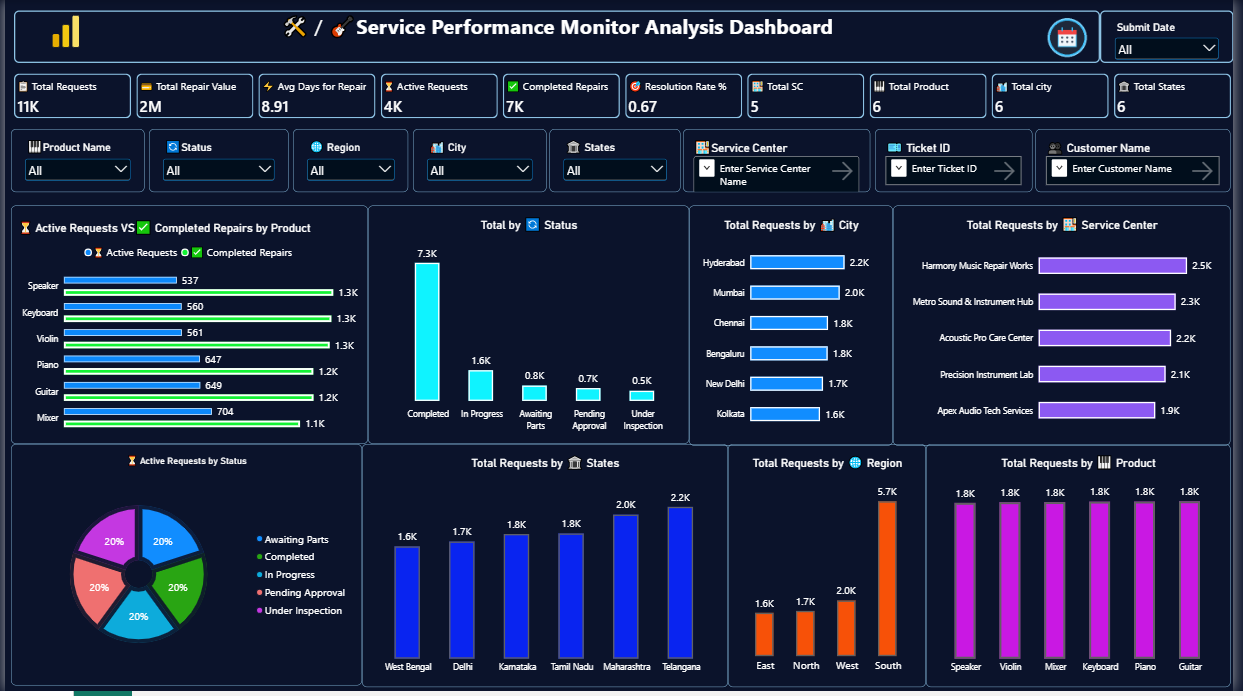

This screenshot's page, from the dashboard's own definition file:
{"tool":"powerbi","page":{"name":"Page 1","canvas":[1920,1080],"ordinal":0},"visuals":[{"type":"textbox","box":[14.1,16.4,1697.4,82.1],"z":0},{"type":"cardVisual","fields":{"Data":["Service Records.Total Requests","Service Records.Total Repair Value","Service Records.Avg Turnaround Days","Service Records.Active Requests","Service Records.Completed Repairs","Service Records.Resolution Rate %","Service Records.Total SC","Service Records.Total Podcut","Service Records.Total city","Service Records.Total States"]},"box":[14.1,114.9,1906.1,70.3],"z":1000},{"type":"slicer","fields":{"Values":["Service Records.Product Name"]},"box":[9.4,201.6,208.4,98.5],"z":2000,"group":"g1"},{"type":"clusteredBarChart","title":"⏳ Active Requests VS✅ Completed Repairs by Product ","fields":{"Category":["Service Records.Product Name"],"Y":["Service Records.⏳ Active Requests","Service Records.✅ Completed Repairs"]},"box":[9.4,321.2,558,372.8],"z":2000},{"type":"slicer","fields":{"Values":["Service Records.Status"]},"box":[224.8,201.6,217.8,98.5],"z":3000,"group":"g1"},{"type":"donutChart","fields":{"Category":["Service Records.Status"],"Y":["Service Records.Active Requests"]},"box":[9.4,694,548.6,377.5],"z":3000},{"type":"textSlicer","title":"🏬Service Center","fields":{"Values":["Service Records.Service Center Name"]},"box":[1060.8,201.6,292.7,98.5],"z":4000,"group":"g1"},{"type":"barChart","title":"Total Requests by 🏬 Service Center ","fields":{"Category":["Service Records.Service Center Name"],"Y":["Service Records.Total Requests"]},"box":[1387.9,321.2,527.5,375.1],"z":4000},{"type":"slicer","fields":{"Values":["Service Records.Region"]},"box":[449.6,201.6,180.3,98.5],"z":5000,"group":"g1"},{"type":"columnChart","title":"Total by 🔄 Status","fields":{"Category":["Service Records.Status"],"Y":["CountNonNull(Service Records.Status)"]},"box":[567.4,321.2,501.7,372.8],"z":5000},{"type":"slicer","fields":{"Values":["Service Records.States"]},"box":[851.8,201.6,204.7,98.5],"z":6000,"group":"g1"},{"type":"columnChart","title":"Total Requests by 🌐 Region","fields":{"Category":["Service Records.Region"],"Y":["Service Records.Total Requests"]},"box":[1130,694,309.5,379.8],"z":6000},{"type":"slicer","fields":{"Values":["Service Records.City"]},"box":[636.9,201.6,208.4,98.5],"z":7000,"group":"g1"},{"type":"columnChart","title":"Total Requests by 🎹 Product","fields":{"Category":["Service Records.Product Name"],"Y":["Service Records.📋 Total Requests"]},"box":[1439.5,694,475.9,379.8],"z":7000},{"type":"textSlicer","title":"👥 Customer Name","fields":{"Values":["Service Records.Customer Name"]},"box":[1611.1,201.6,304.4,98.5],"z":8000,"group":"g1"},{"type":"columnChart","title":"Total Requests by 🏛️ States","fields":{"Y":["Service Records.Total Requests"],"Category":["Service Records.States"]},"box":[558,694,572.1,379.8],"z":8000},{"type":"barChart","title":"Total Requests by 🏙️ City","fields":{"Category":["Service Records.City"],"Y":["Service Records.Total Requests"]},"box":[1069.1,321.2,318.8,375.1],"z":9000},{"type":"slicer","fields":{"Values":["Service Records.Submit Date"]},"box":[1711.5,16.4,208.7,82.1],"z":10000},{"type":"image","box":[1598.9,25.8,121.9,65.6],"z":11000},{"type":"image","box":[14.1,16.4,161.8,65.6],"z":12000},{"type":"group","id":"g1","title":"Group 1","box":[9.4,201.6,1906.1,98.5],"z":13000},{"type":"textSlicer","title":"🎫 Ticket ID","fields":{"Values":["Service Records.Ticket ID"]},"box":[1360.5,201.6,245.9,98.5],"z":17000,"group":"g1"}]}

Visuals, with their boxes in screenshot pixels (x1, y1, x2, y2), scaled from the page's 1920x1080 canvas onto the 1243x696 screenshot:
textbox: [9,11,1108,63]
cardVisual - Service Records.Total Requests x Service Records.Total Repair Value: [9,74,1242,119]
slicer - Service Records.Product Name: [6,130,141,193]
"⏳ Active Requests VS✅ Completed Repairs by Product " clusteredBarChart: [6,207,367,447]
slicer - Service Records.Status: [146,130,287,193]
donutChart - Service Records.Status x Service Records.Active Requests: [6,447,361,691]
"🏬Service Center" textSlicer: [687,130,876,193]
"Total Requests by 🏬 Service Center " barChart: [899,207,1240,449]
slicer - Service Records.Region: [291,130,408,193]
"Total by 🔄 Status" columnChart: [367,207,692,447]
slicer - Service Records.States: [551,130,684,193]
"Total Requests by 🌐 Region" columnChart: [732,447,932,692]
slicer - Service Records.City: [412,130,547,193]
"Total Requests by 🎹 Product" columnChart: [932,447,1240,692]
"👥 Customer Name" textSlicer: [1043,130,1240,193]
"Total Requests by 🏛️ States" columnChart: [361,447,732,692]
"Total Requests by 🏙️ City" barChart: [692,207,899,449]
slicer - Service Records.Submit Date: [1108,11,1242,63]
image: [1035,17,1114,59]
image: [9,11,114,53]
"Group 1" group: [6,130,1240,193]
"🎫 Ticket ID" textSlicer: [881,130,1040,193]
